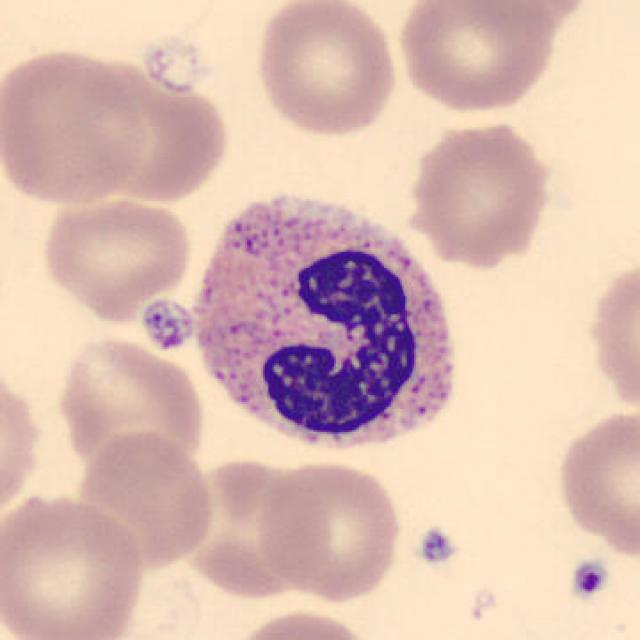Neutrophil: (187, 178, 471, 469)
Platelets: (137, 298, 195, 353), (414, 526, 460, 570), (565, 559, 610, 601)
RBC: (0, 42, 151, 210), (404, 113, 556, 271), (80, 51, 231, 210), (169, 455, 327, 603), (52, 332, 208, 479), (0, 488, 149, 639), (254, 456, 406, 604), (71, 427, 219, 571), (250, 0, 401, 139), (38, 192, 196, 321), (393, 0, 563, 115), (551, 404, 640, 560), (0, 356, 46, 533), (588, 263, 640, 405), (224, 606, 377, 640), (457, 0, 595, 37)
